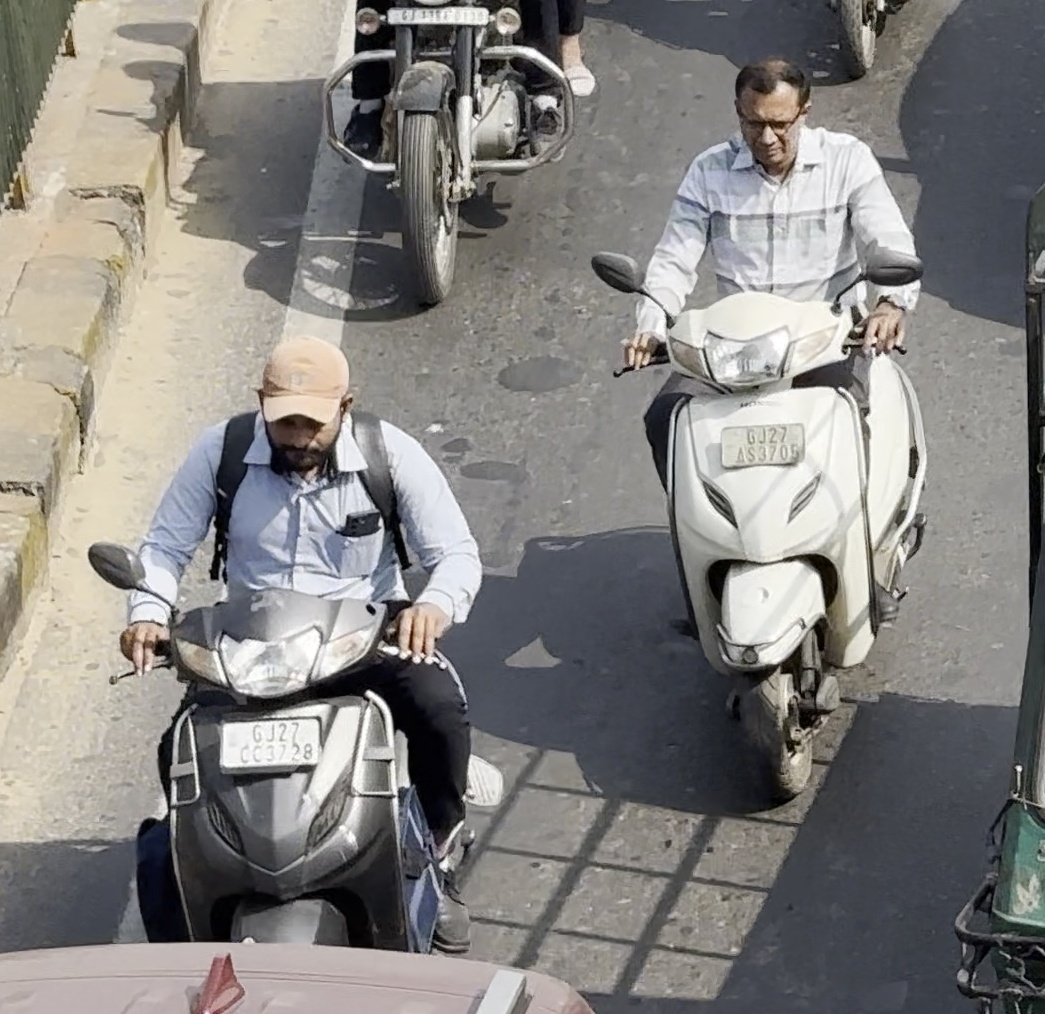BikeWithRider: (65, 327, 527, 989), (577, 51, 951, 811)
NoHelmet: (241, 327, 368, 477), (708, 53, 826, 175)
